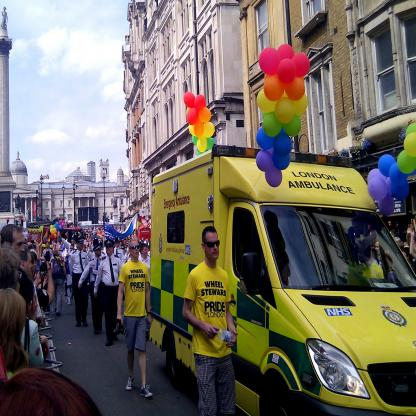Ambulance: (145, 144, 415, 415)
